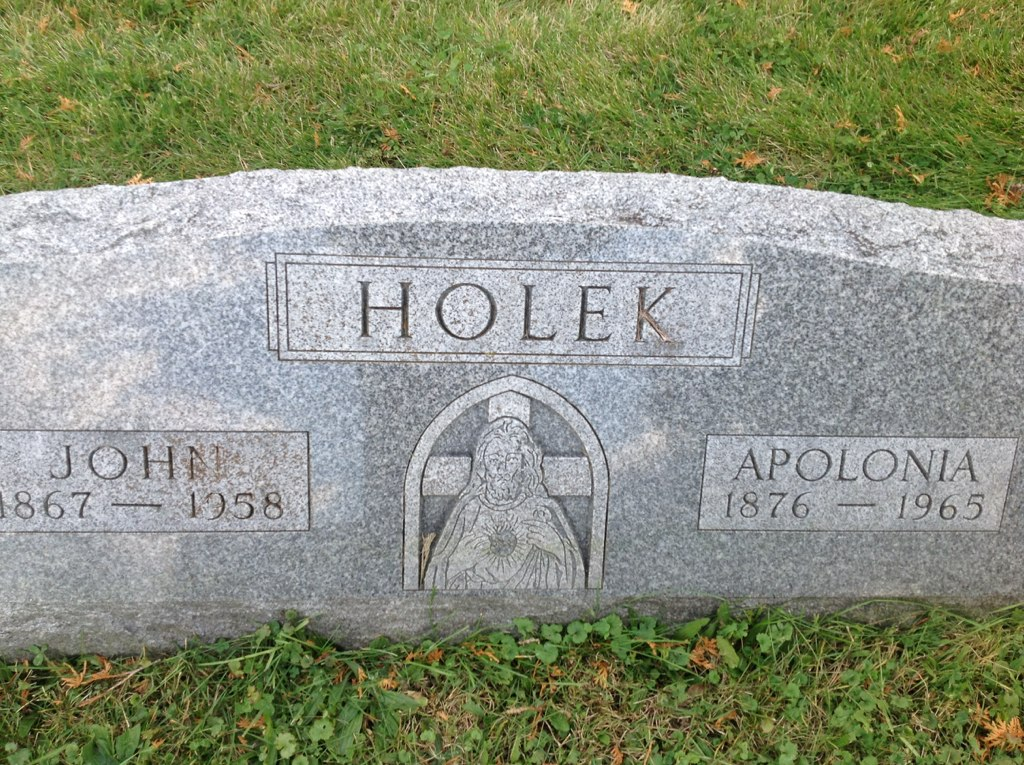upright: (0, 154, 1024, 612)
